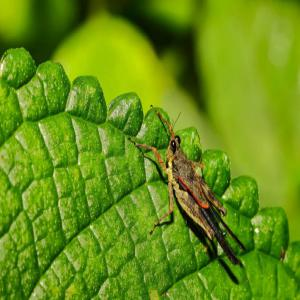locust: (156, 113, 246, 265)
